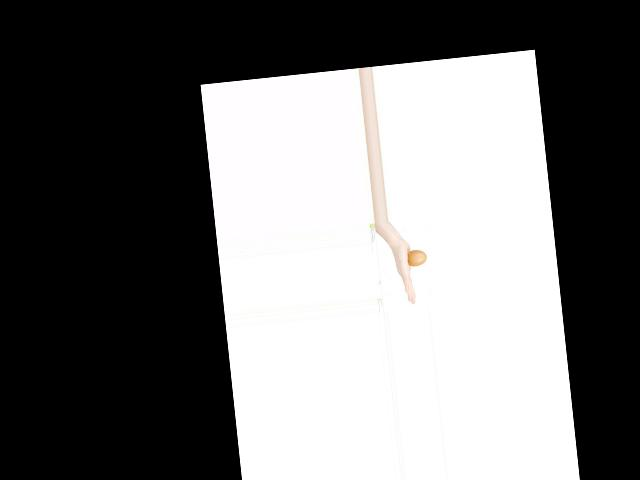egg: (406, 249, 427, 267)
